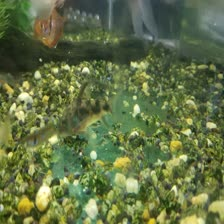Kiros: (56, 74, 119, 142)
Transparente: (26, 5, 66, 51)
